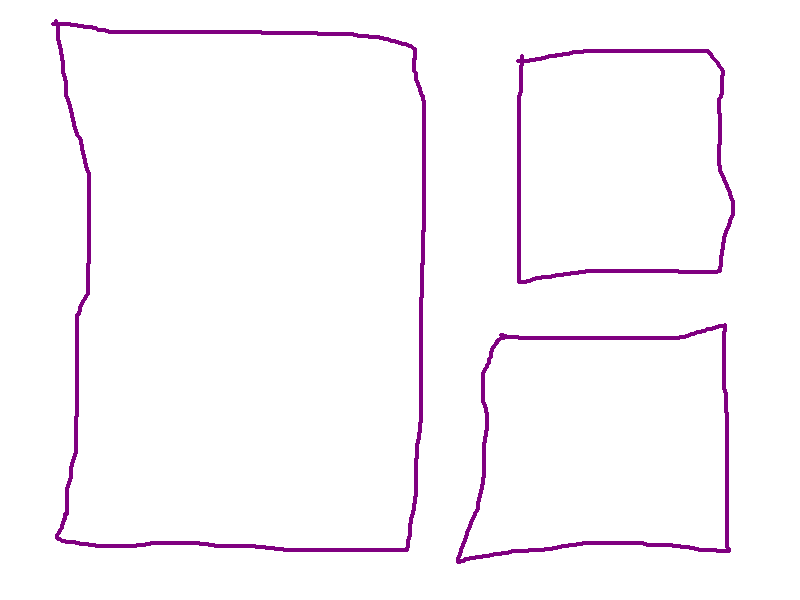rect: (43, 13, 430, 556), (453, 318, 739, 568), (508, 43, 737, 289)
